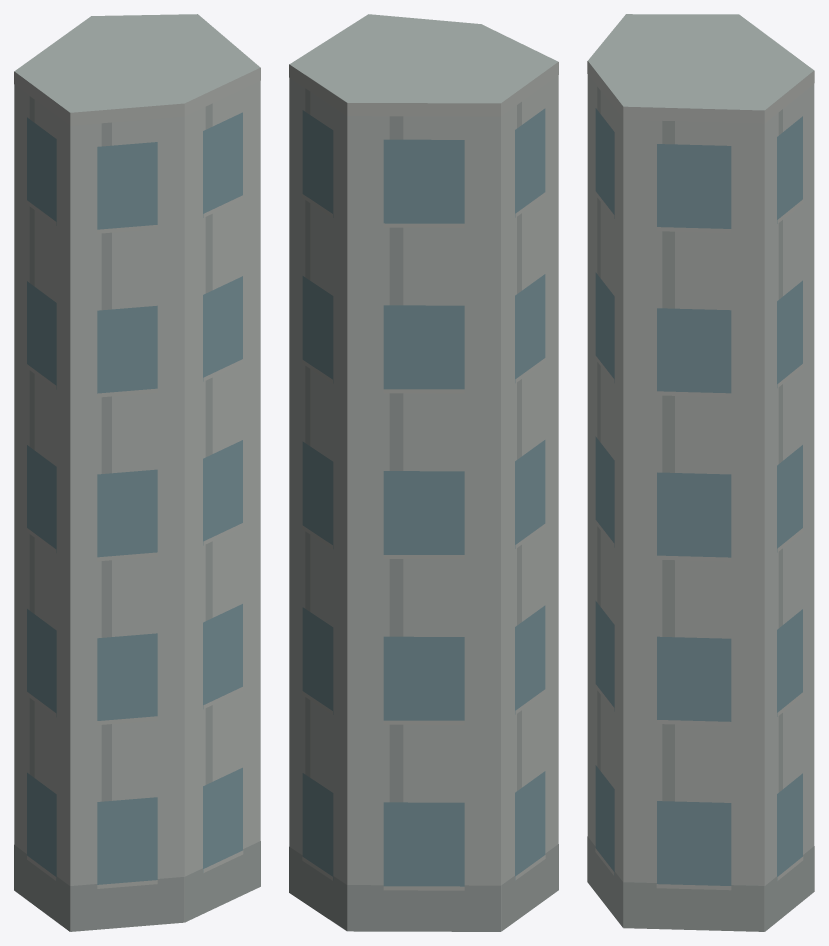
Rendered from survey-upis-33019559.glb.
3 views of the same model, side by side, from view 1: azimuth 30°, elevation 25°; view 2: azimuth 150°, elevation 25°; view 3: azimuth 270°, elevation 25° (orthographic).
Visible parts, largest first — view 1: survey-upis-33019559.tmp; view 2: survey-upis-33019559.tmp; view 3: survey-upis-33019559.tmp.
Boxes of the visible parts, left/top/right/bottom form: survey-upis-33019559.tmp: left=14, top=14, right=260, bottom=931; survey-upis-33019559.tmp: left=289, top=14, right=558, bottom=931; survey-upis-33019559.tmp: left=587, top=14, right=814, bottom=931.
Size of the model in its own units: 3.85 by 15.25 by 3.82.
